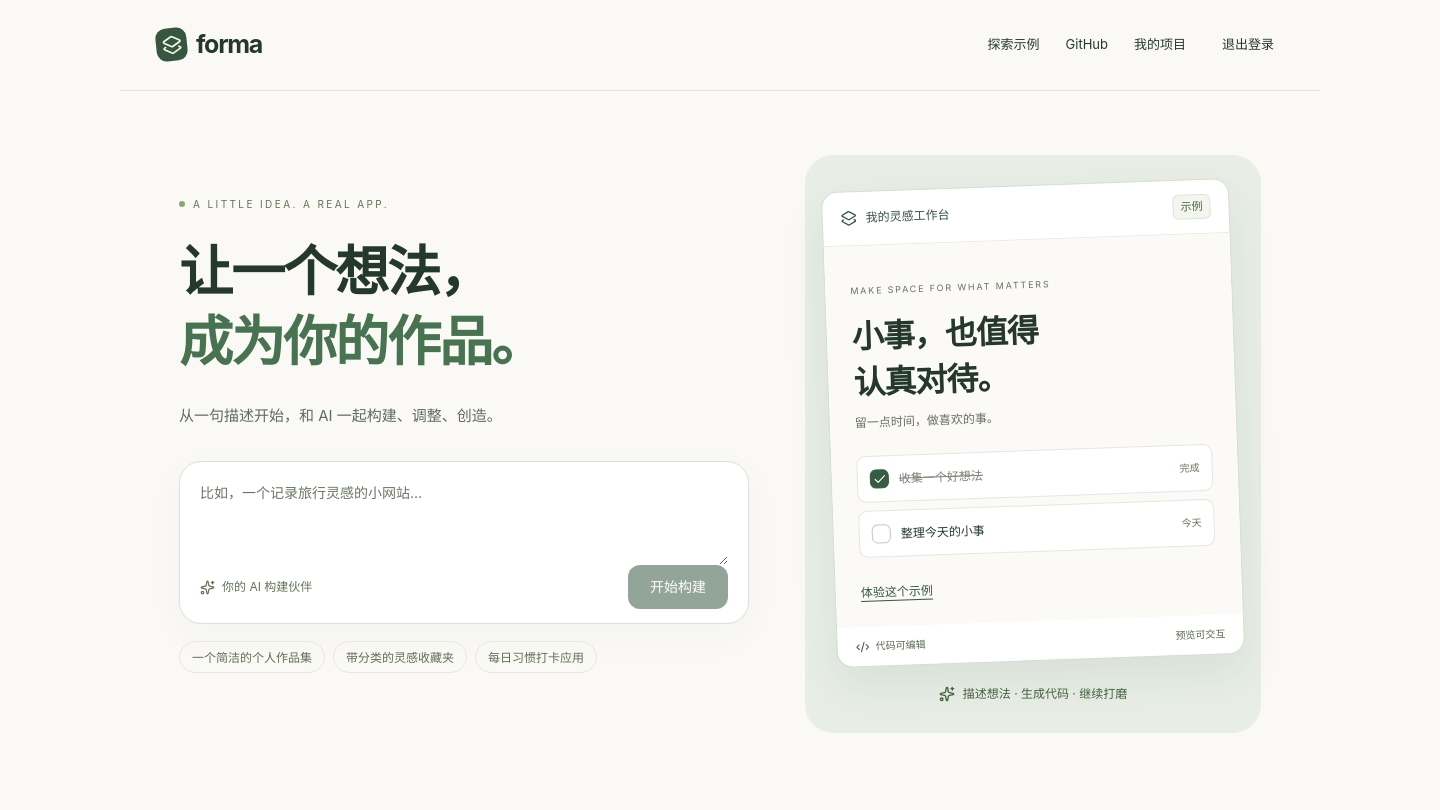
Test case: shows signout errors and allows another attempt
Click the button "退出登录" at (1248, 45), box [1212,29,1284,61]
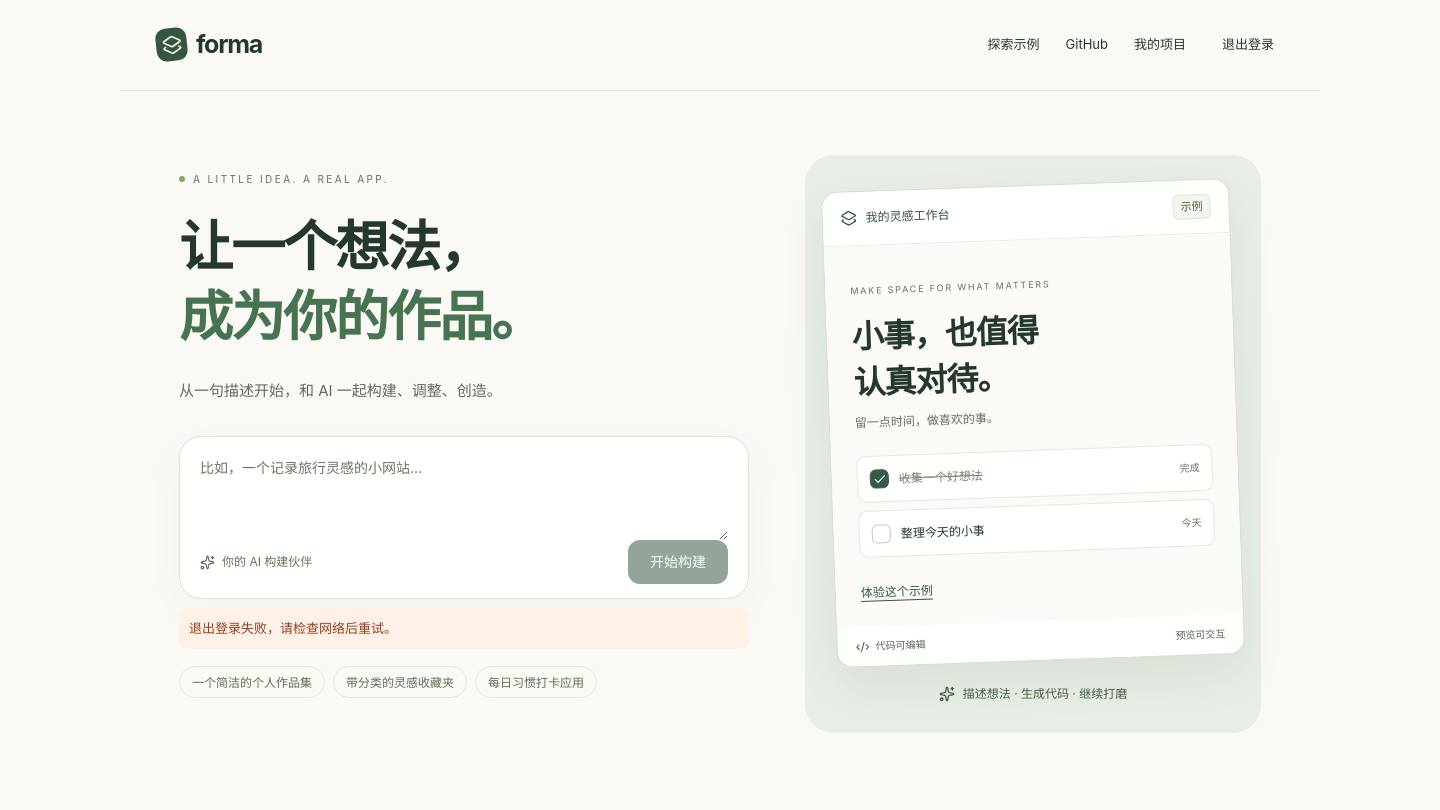
Expected: the message shows "退出登录失败", [189,620,397,636]
